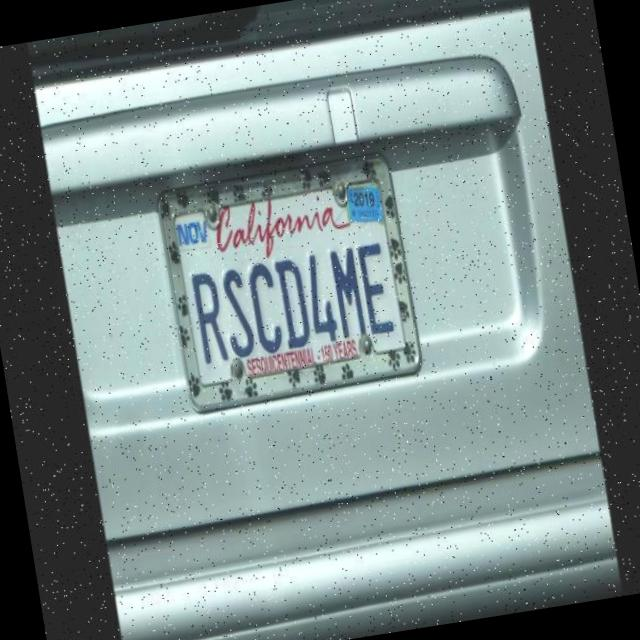LicensePlate: (137, 120, 440, 430)
